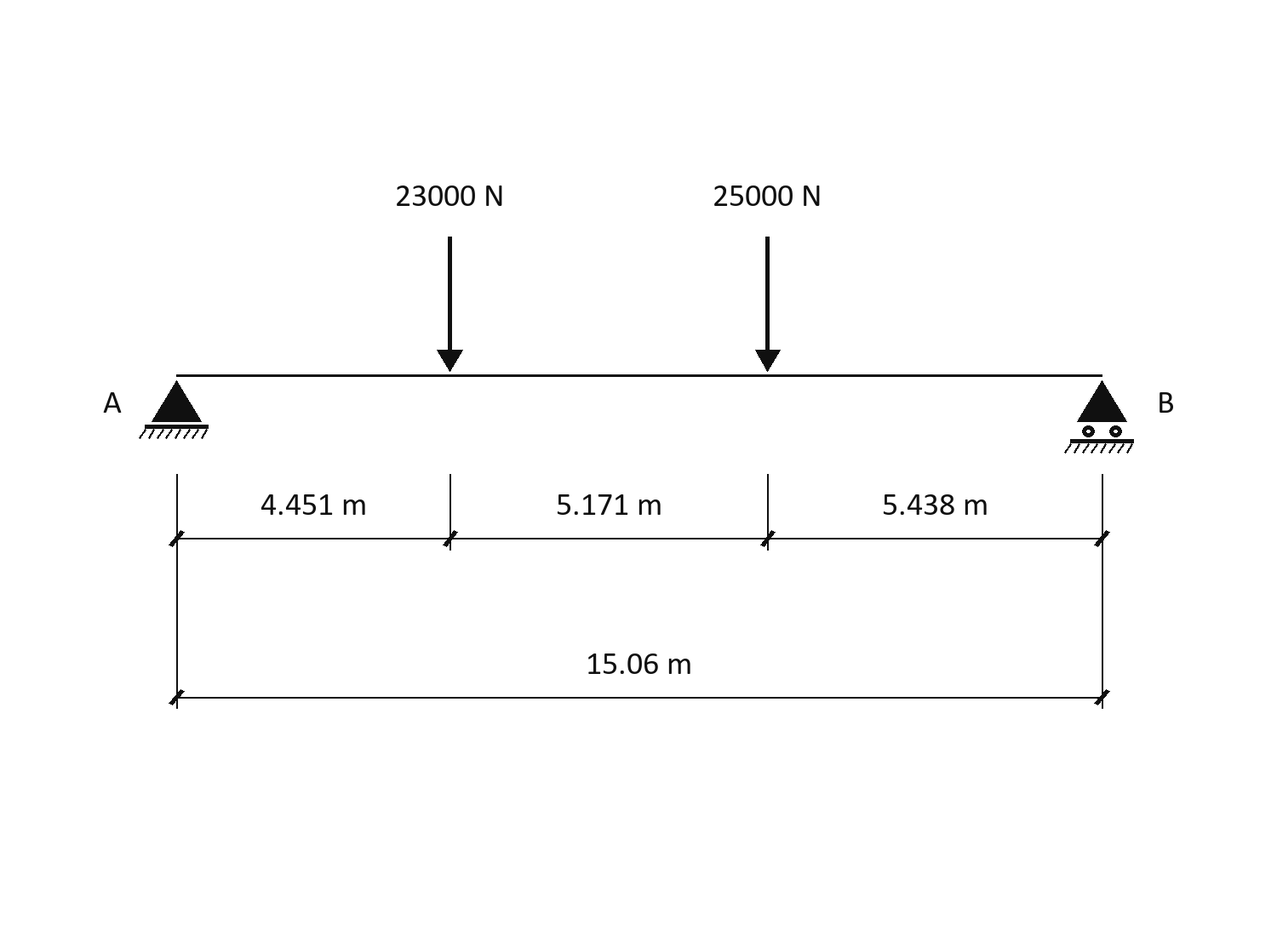pin_support: (139, 380, 209, 439)
point_load: (437, 237, 463, 372), (755, 237, 781, 372)
roller_support: (1064, 380, 1134, 454)
